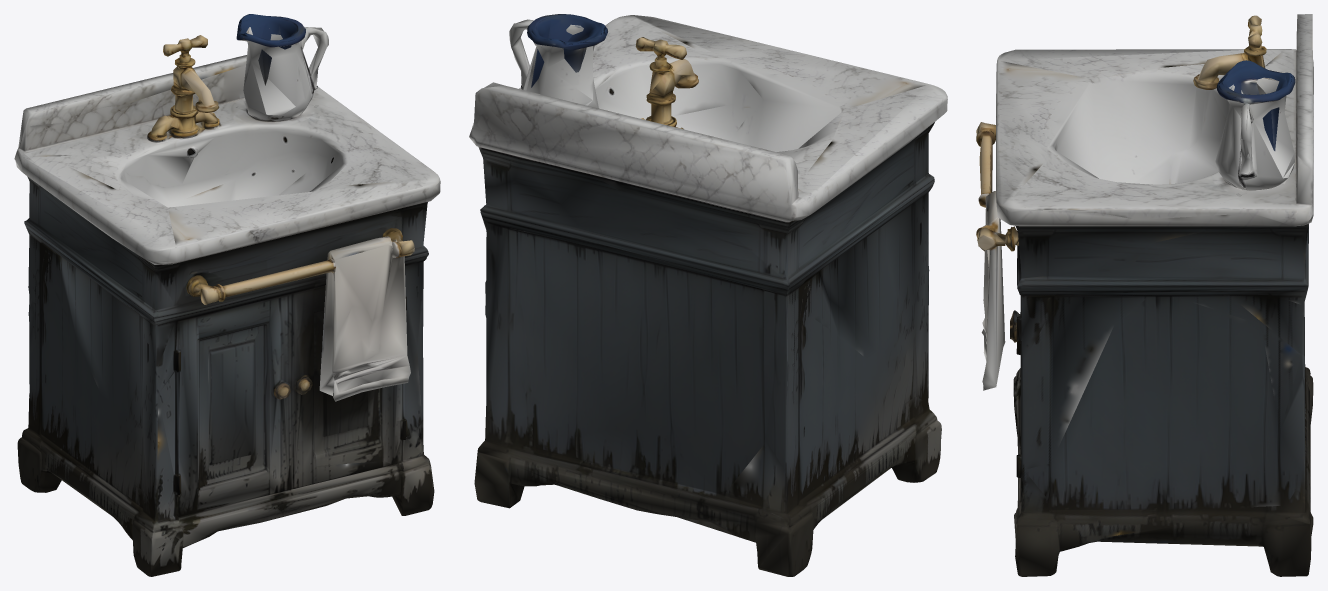
Rendered from lhi_washstand.glb.
3 renders of one model, left to right at view 1: azimuth 30°, elevation 25°; view 2: azimuth 150°, elevation 25°; view 3: azimuth 270°, elevation 25°, orthographic. The views are drawn at different scales.
Parts seen in each view (by area): view 1: material; view 2: material; view 3: material.
Part boxes in pixels (box(x1,y1,x2,y2)): material: box(14, 14, 440, 576); material: box(469, 14, 947, 576); material: box(976, 14, 1313, 576).
Bounding box in the file's own units: 0.6408 × 0.8819 × 0.5677.
1 material, 1 textured.
